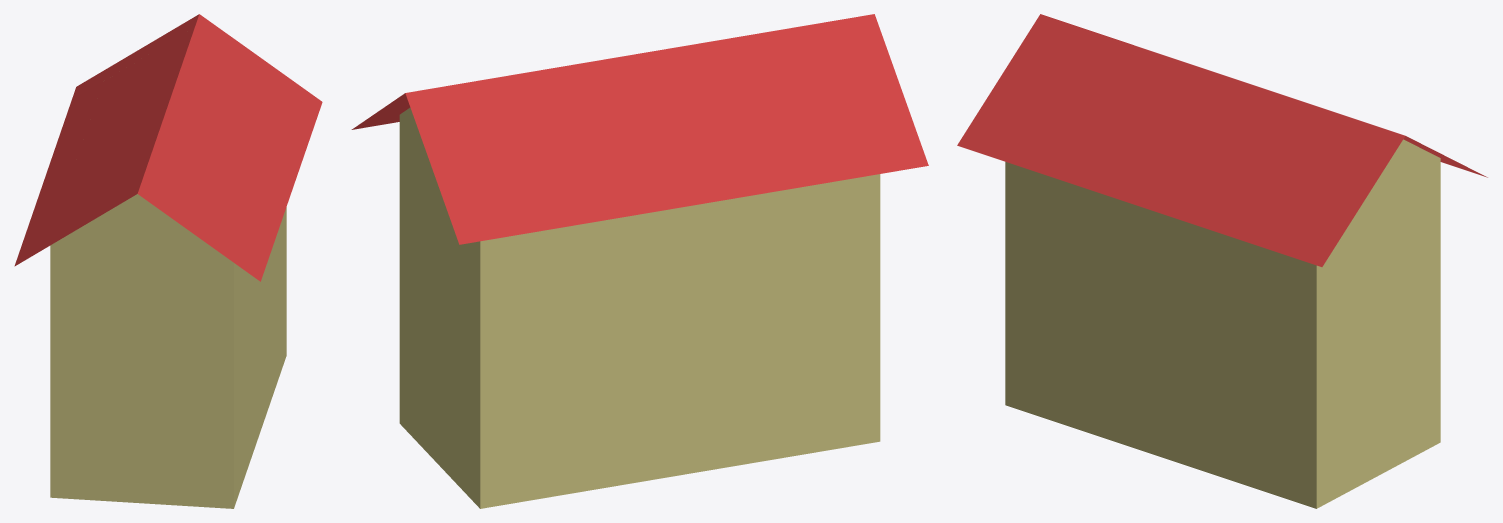
3 renders of one model, left to right at view 1: azimuth 30°, elevation 25°; view 2: azimuth 150°, elevation 25°; view 3: azimuth 270°, elevation 25°, orthographic. The views are drawn at different scales.
Size of the model in its own units: 10.92 by 11.62 by 8.41.
